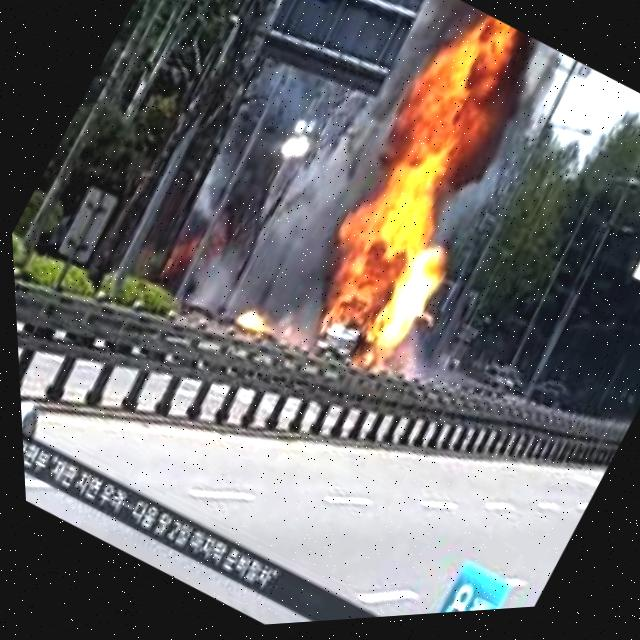Fire: (339, 0, 552, 256), (289, 196, 453, 368), (231, 309, 276, 349)
